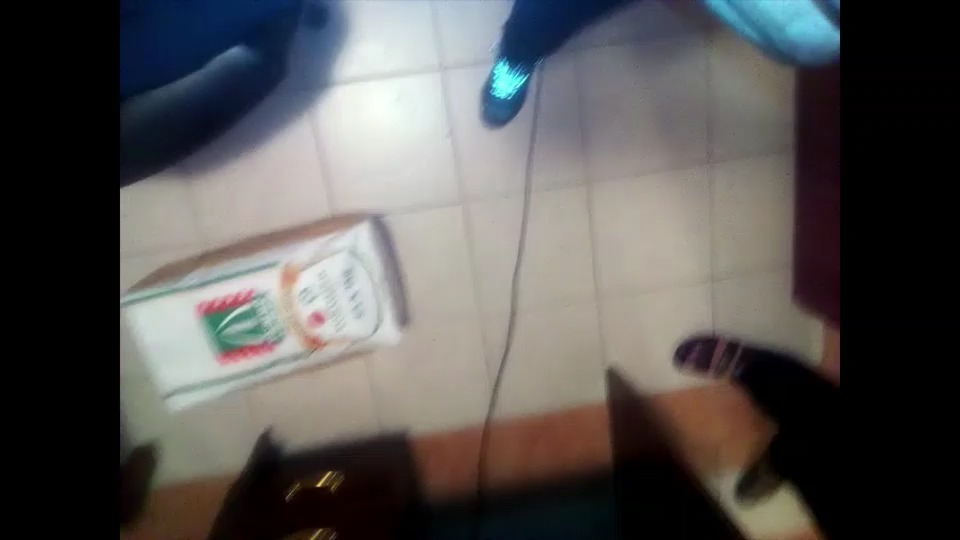maize_flour_green_label: (122, 216, 405, 409)
